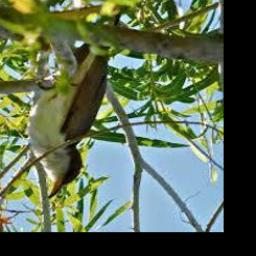Cuckoo: (28, 0, 135, 199)
